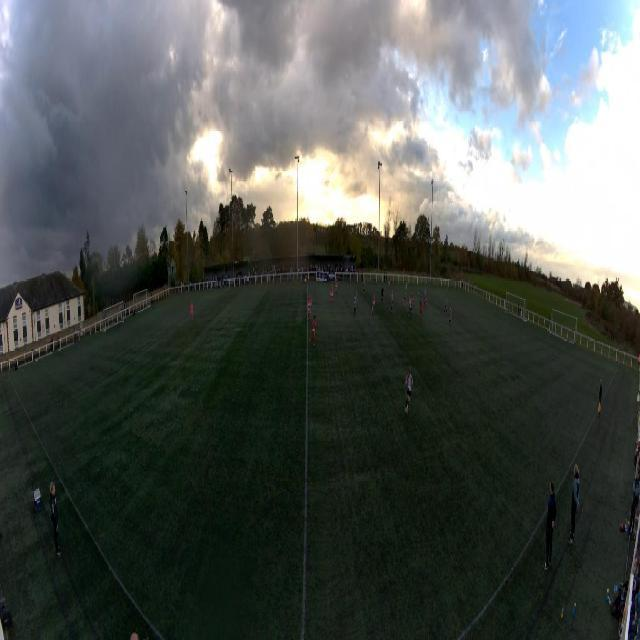ball: (417, 291, 419, 296)
player: (405, 366, 413, 412), (310, 313, 317, 349), (307, 293, 313, 321), (402, 295, 407, 314), (330, 285, 334, 307), (390, 291, 394, 313), (353, 293, 357, 315), (371, 294, 375, 315), (419, 301, 423, 321), (408, 297, 412, 317), (443, 298, 447, 316), (362, 277, 366, 295), (449, 304, 452, 326), (190, 302, 193, 322), (411, 292, 414, 310), (335, 278, 338, 296), (423, 289, 426, 307), (424, 292, 427, 309), (381, 286, 384, 302), (405, 281, 408, 297), (388, 275, 391, 290), (507, 303, 510, 318)
